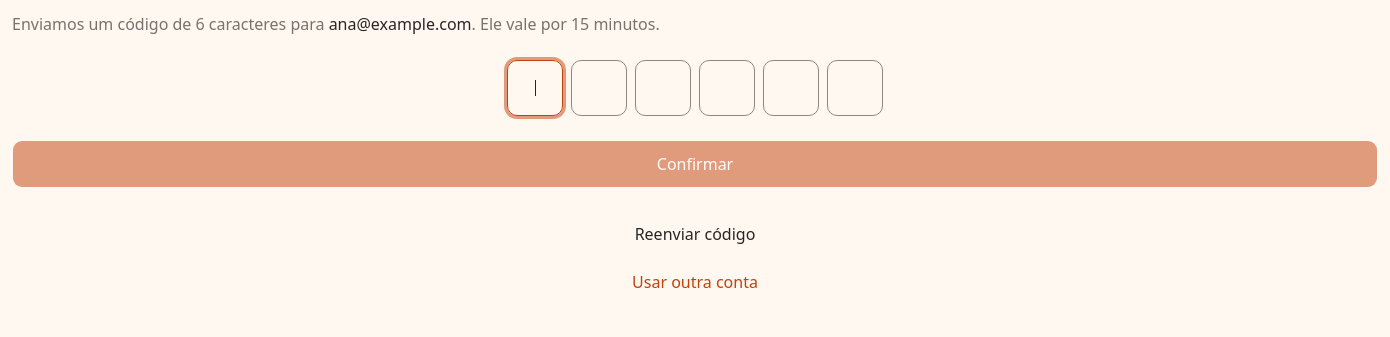
it: VerifyForm › follows the server when a resend comes too early
The width and height of the screenshot is (1390, 337).
Click the button "Reenviar código": (695, 234) 618,212 -> 772,256
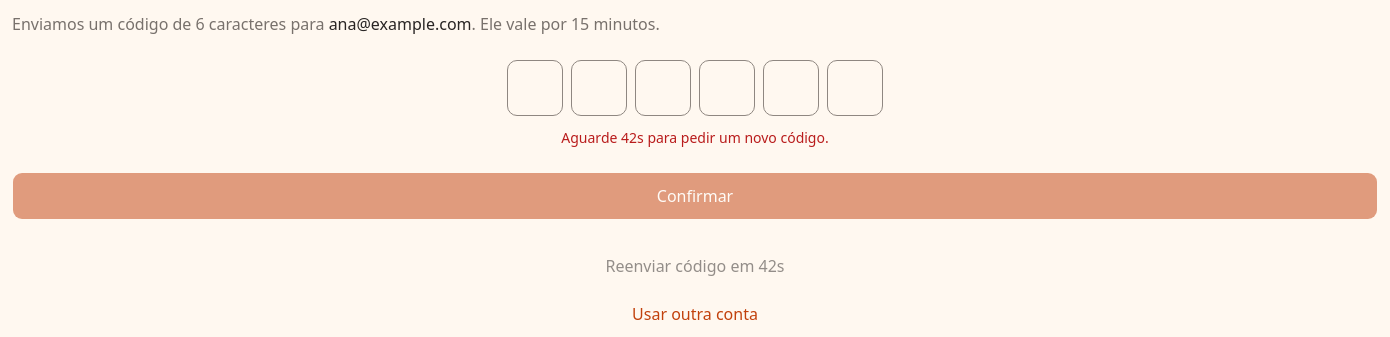
Check: the message reads "Aguarde 42s para pedir um novo código.", box 561,128 -> 829,147
Check: the button "Reenviar código em 42s" is disabled, box 588,244 -> 802,288
